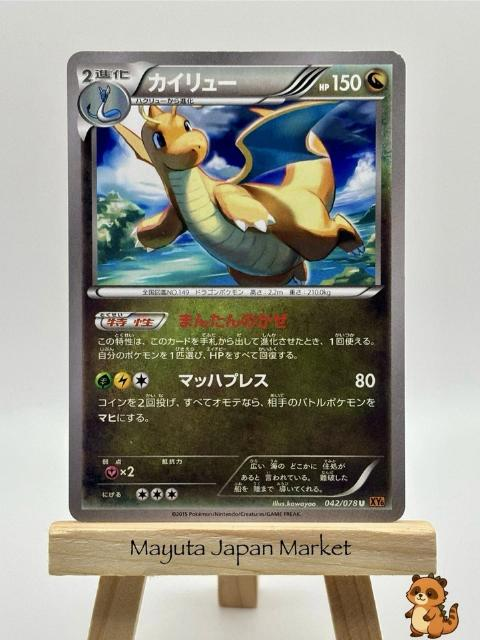Card: (61, 46, 412, 528)
Name: (136, 69, 244, 99)
